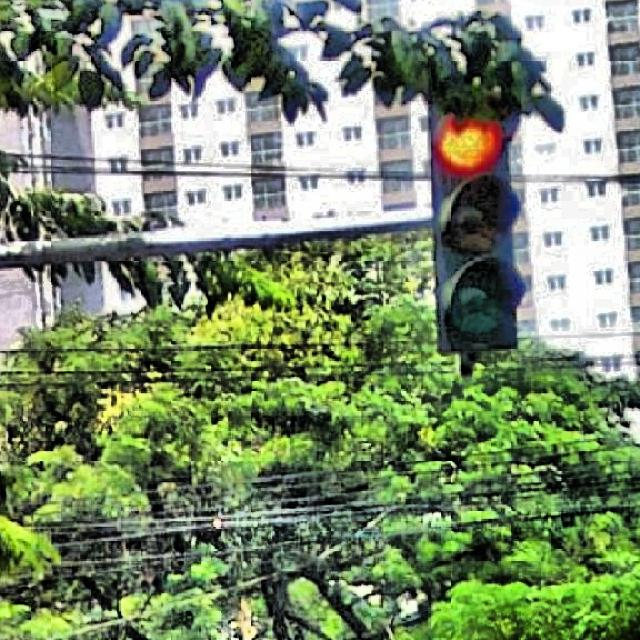red: (423, 80, 529, 357)
